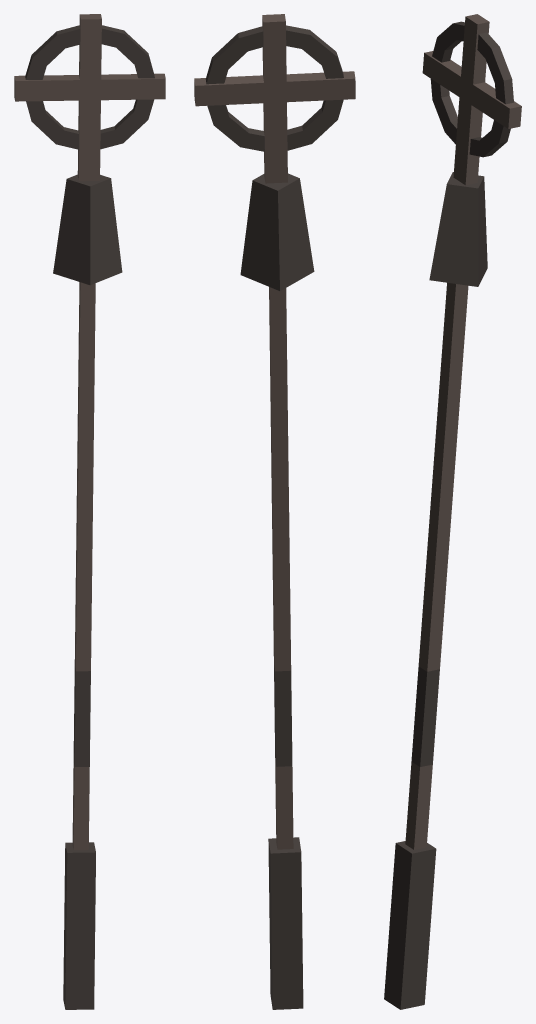
Rendered from CrossPole2.glb.
The picture shows the model from 3 angles, left to right: view 1: azimuth 30°, elevation 25°; view 2: azimuth 210°, elevation 25°; view 3: azimuth 330°, elevation 25°; orthographic projection. The views are drawn at different scales.
Parts seen in each view (by area): view 1: CrossPole; view 2: CrossPole; view 3: CrossPole.
Part boxes in pixels (left/top/right/bottom): CrossPole: left=14, top=14, right=165, bottom=1009; CrossPole: left=194, top=14, right=355, bottom=1009; CrossPole: left=384, top=14, right=521, bottom=1009.
Size of the model in its own units: 1.84 by 13.63 by 1.48.
1 material, 1 textured.
